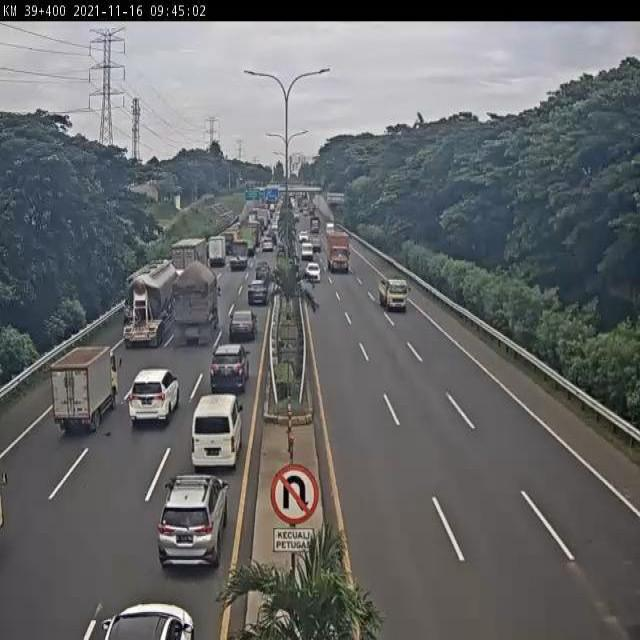car: (157, 473, 228, 567), (129, 369, 179, 423), (208, 346, 249, 398), (225, 311, 255, 345), (245, 281, 269, 308), (253, 260, 271, 285), (305, 261, 322, 284)
small bus: (190, 397, 241, 471)
small truck: (52, 347, 119, 433), (379, 279, 410, 309)
truck-l-: (172, 264, 221, 345), (167, 236, 207, 296)
truck-m-: (328, 234, 352, 274), (228, 239, 252, 273), (208, 234, 227, 266)
truck-xl-: (120, 264, 179, 353)
